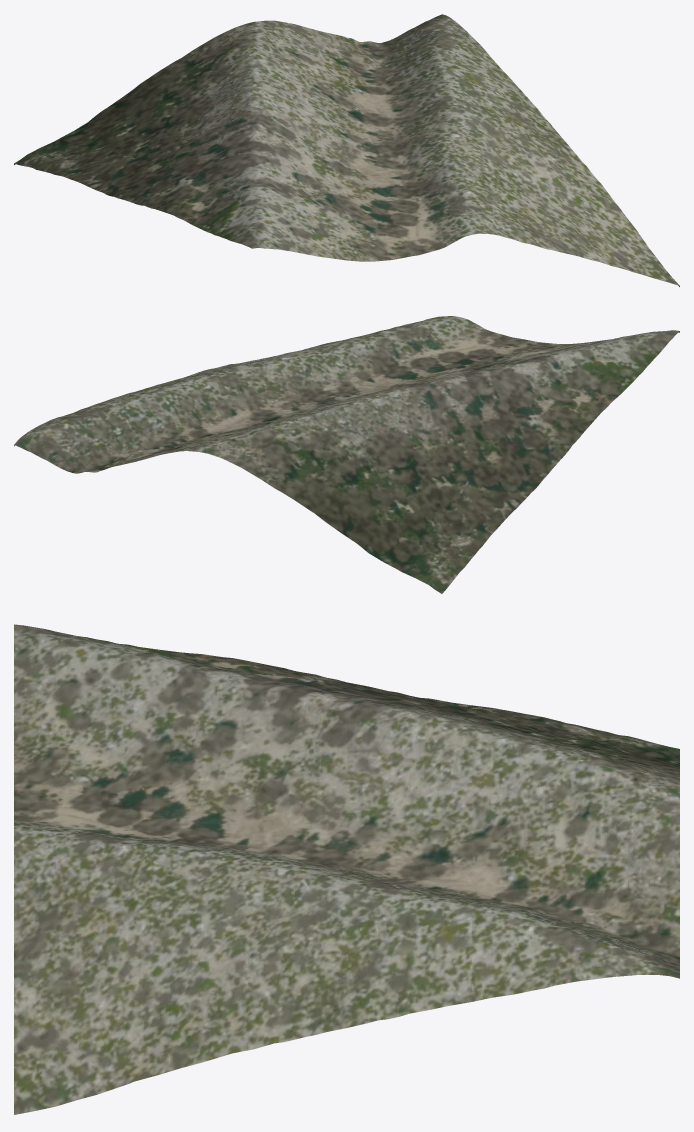
3 views of the same model, one above another, from view 1: azimuth 30°, elevation 25°; view 2: azimuth 150°, elevation 25°; view 3: azimuth 270°, elevation 25° (orthographic). The views are drawn at different scales.
Bounding box in the file's own units: 250 × 83.73 × 241.
Materials: 1 (1 with a texture image).
